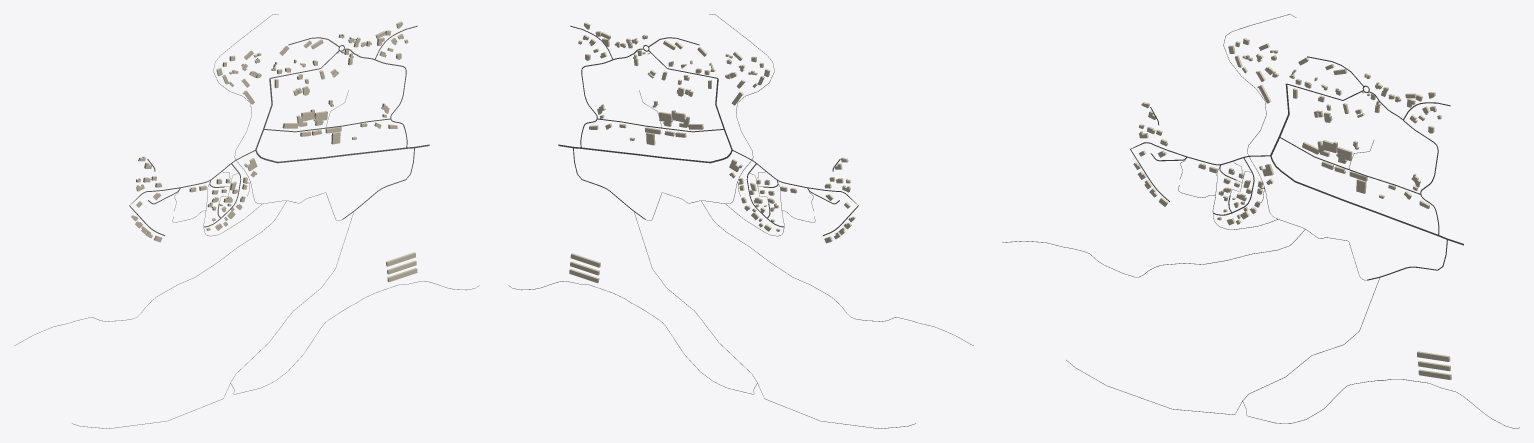
File: historic-palestine-13_36_3546_3303.glb
The picture shows the model from 3 angles, left to right: view 1: azimuth 30°, elevation 25°; view 2: azimuth 150°, elevation 25°; view 3: azimuth 330°, elevation 25°; orthographic projection. The views are drawn at different scales.
Visible parts, largest first — view 1: Road אשכול אלנבי; view 2: Road אשכול אלנבי; view 3: Road אשכול אלנבי.
Part boxes in pixels (x1,y1,x2,y2): Road אשכול אלנבי: (255,78,429,163); Road אשכול אלנבי: (558,78,732,163); Road אשכול אלנבי: (1270,84,1463,245).
Size of the model in its own units: 1627 by 1273 by 8.7.
